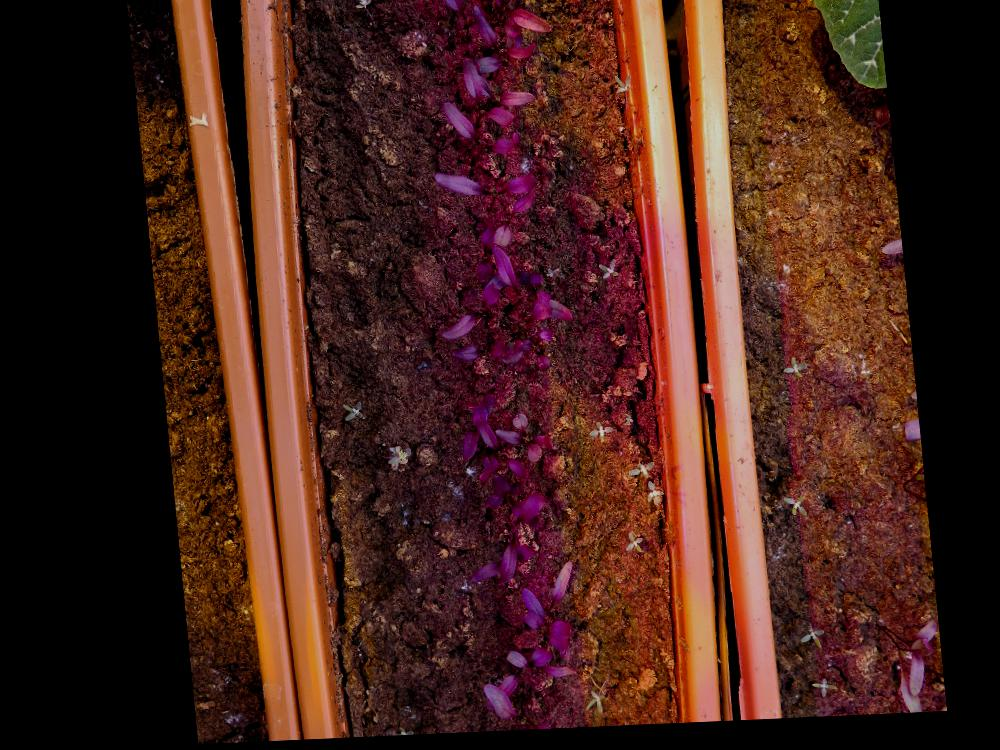weed: (773, 360, 803, 385), (576, 424, 606, 449), (771, 500, 800, 523), (633, 485, 658, 511), (570, 692, 594, 718), (786, 633, 814, 655), (796, 682, 824, 704), (590, 261, 615, 284), (332, 403, 357, 424), (617, 466, 647, 483), (613, 535, 635, 558), (611, 78, 632, 99), (348, 0, 374, 13), (373, 728, 402, 738)
